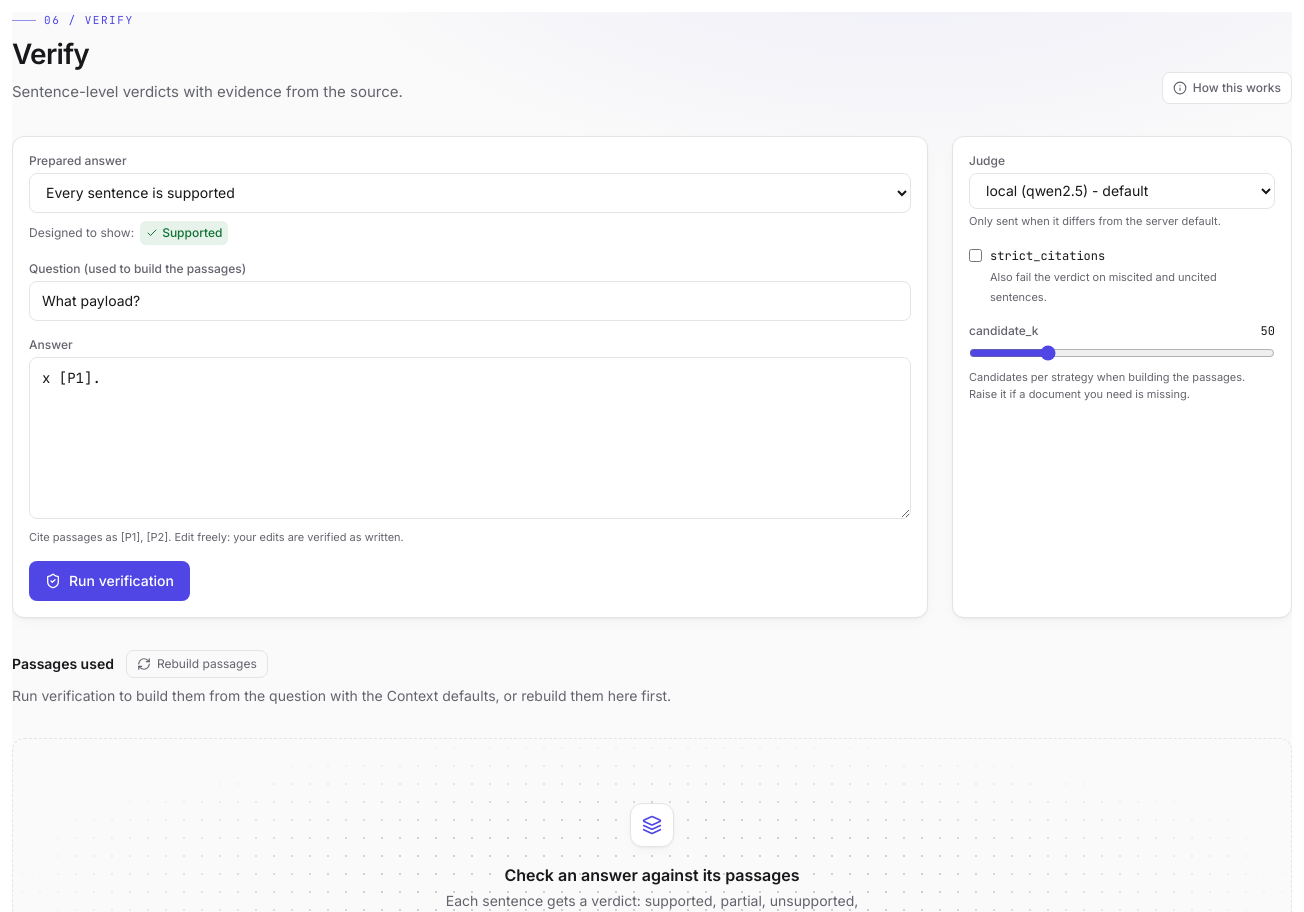
Test case: VerifyPage › shows_expected_vs_actual_chips_and_calls_context_then_verify
Select "Wrong number plus a wrong-robot claim" in the dropdown labelled "Prepared answer". click: (470, 193)
box: [29, 173, 911, 213]
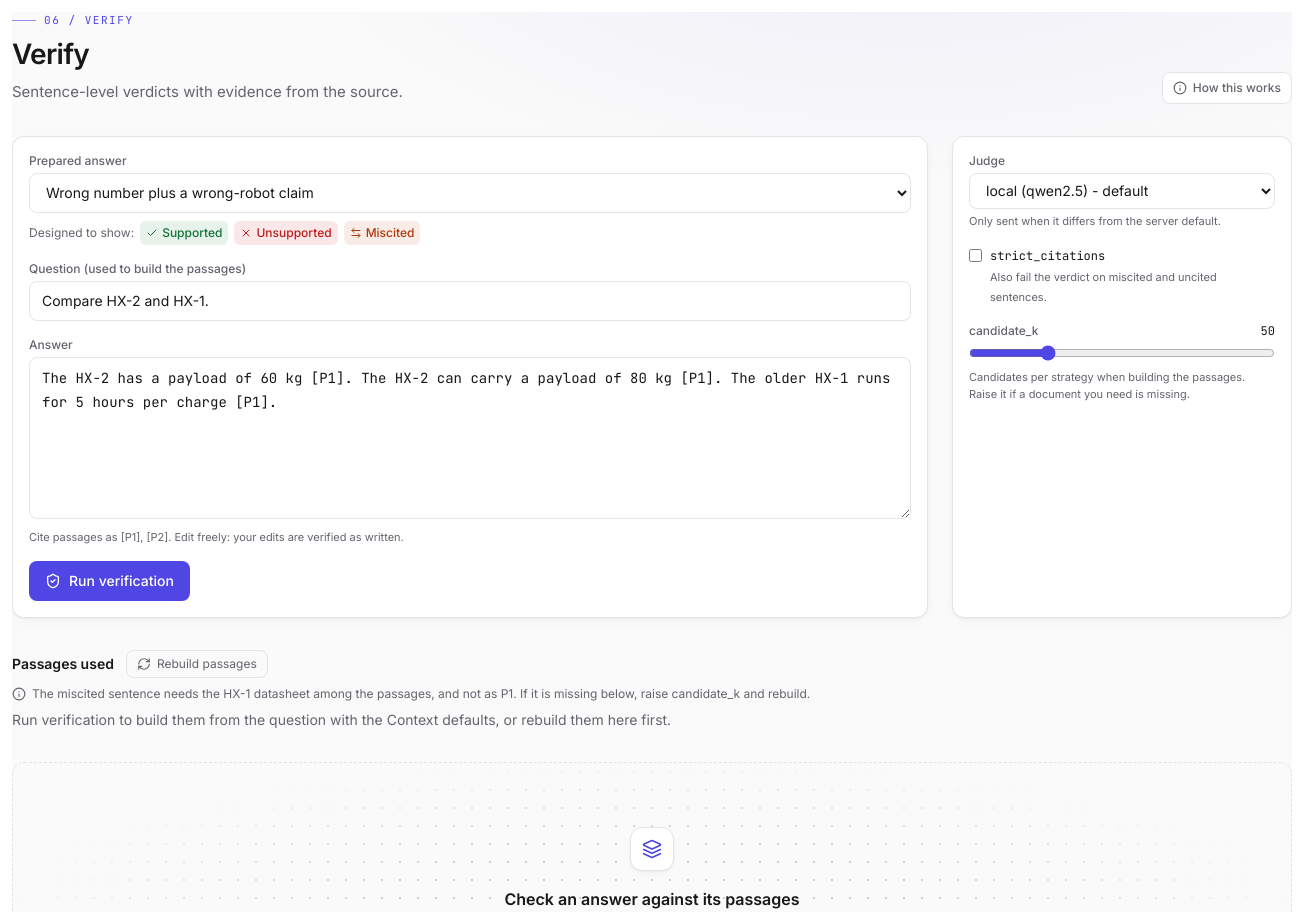
expect the text box labelled "Answer" holds "The HX-2 has a payload of 60 kg [P1]. The HX-2 can carry a payload of 80 kg [P1]. The older HX-1 runs for 5 hours per charge [P1].": met, box [29, 357, 911, 519]
expect the field showing "Compare HX-2 and HX-1." is shown: met, box [29, 281, 911, 321]
Click the button "Run verification". click: (109, 581)
box: [29, 561, 190, 601]
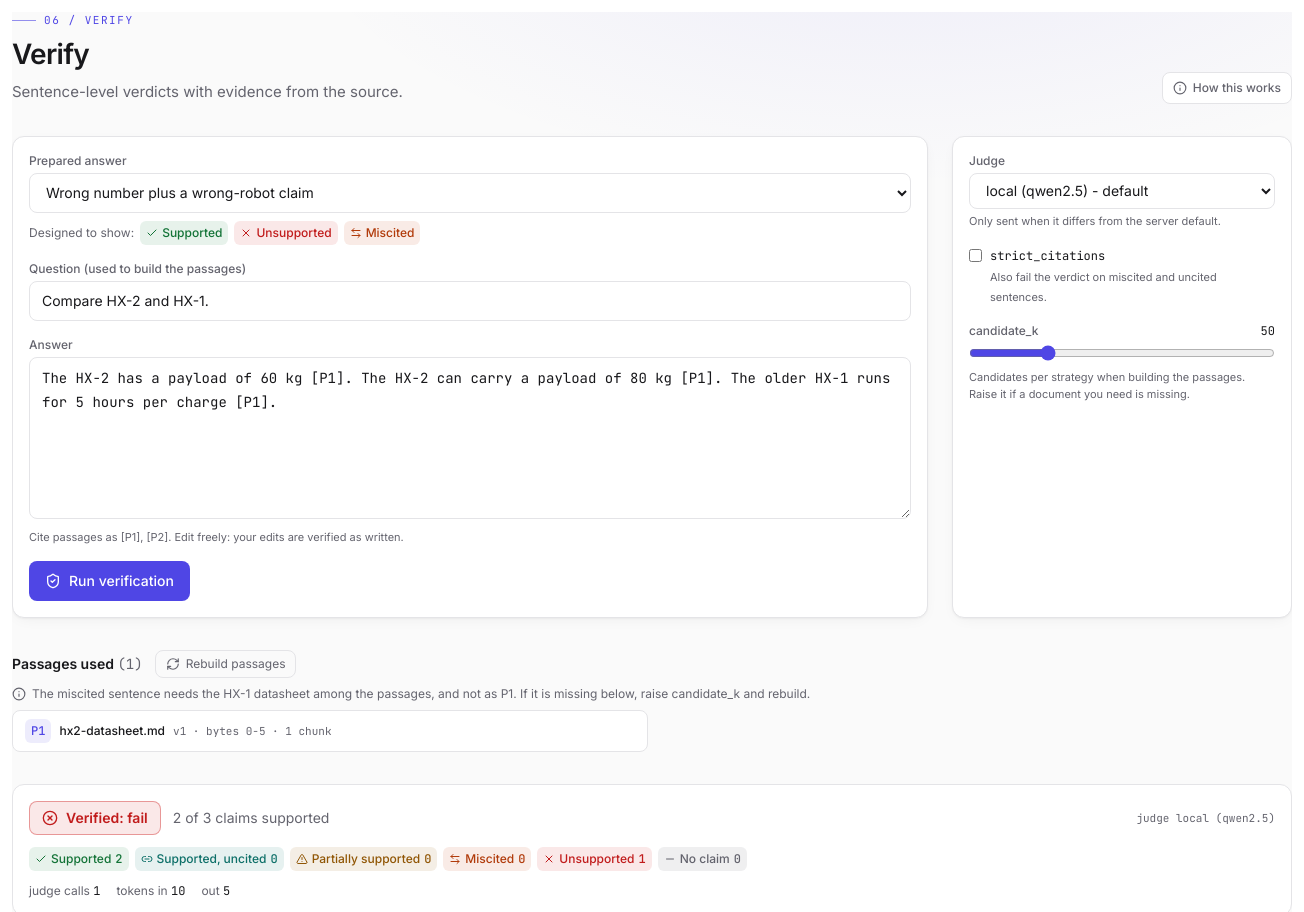
expect the text "hx2-datasheet.md" is shown: met, box [59, 723, 165, 739]
